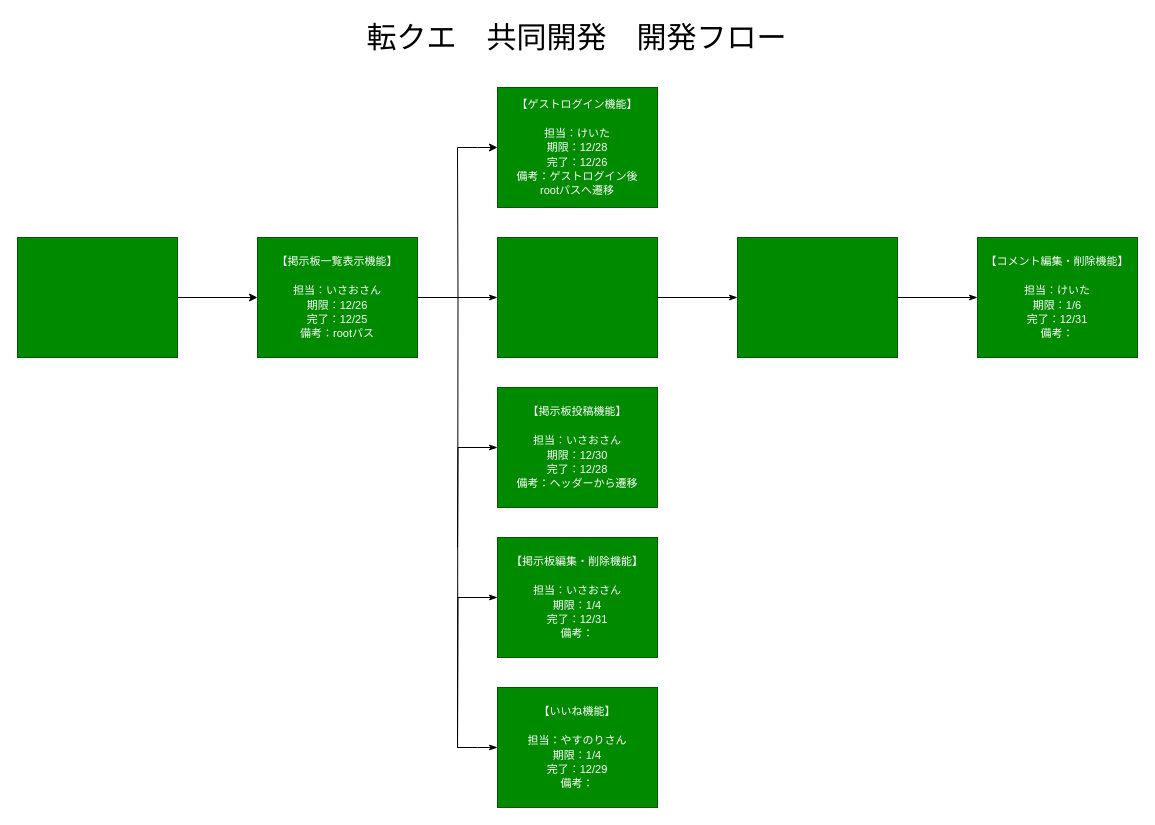
Image size: 1155x825. Some labels were removed from this diagram. The shapes that lost their labels are listed below. From the top down, each one's centre as x and y in pixels, then its label:
the point at 97,297: 【正規表現・バリデーション】 担当：やすのりさん 期限：12/24 完了：12/23 備考：
the point at 577,297: 【掲示板詳細表示機能】 担当：やすのりさん 期限：12/29 完了：12/27 備考：
the point at 817,297: 【コメント投稿機能】 担当：けいた 期限：1/2 完了：12/31 備考：
